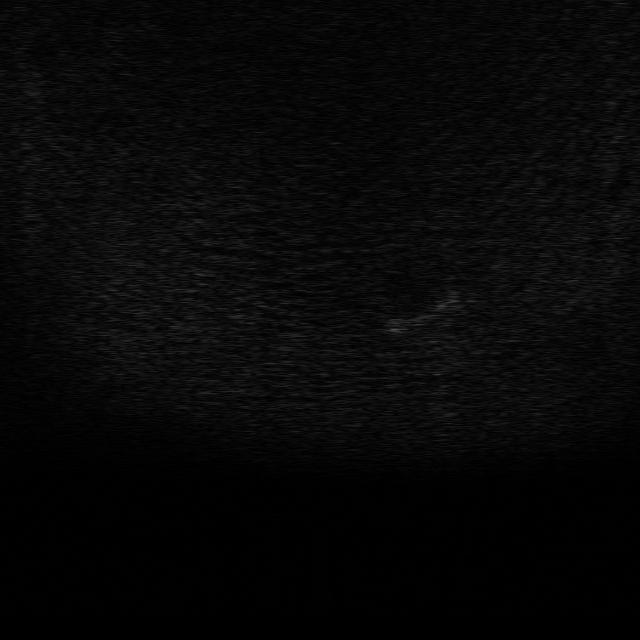plane: (377, 289, 462, 332)
